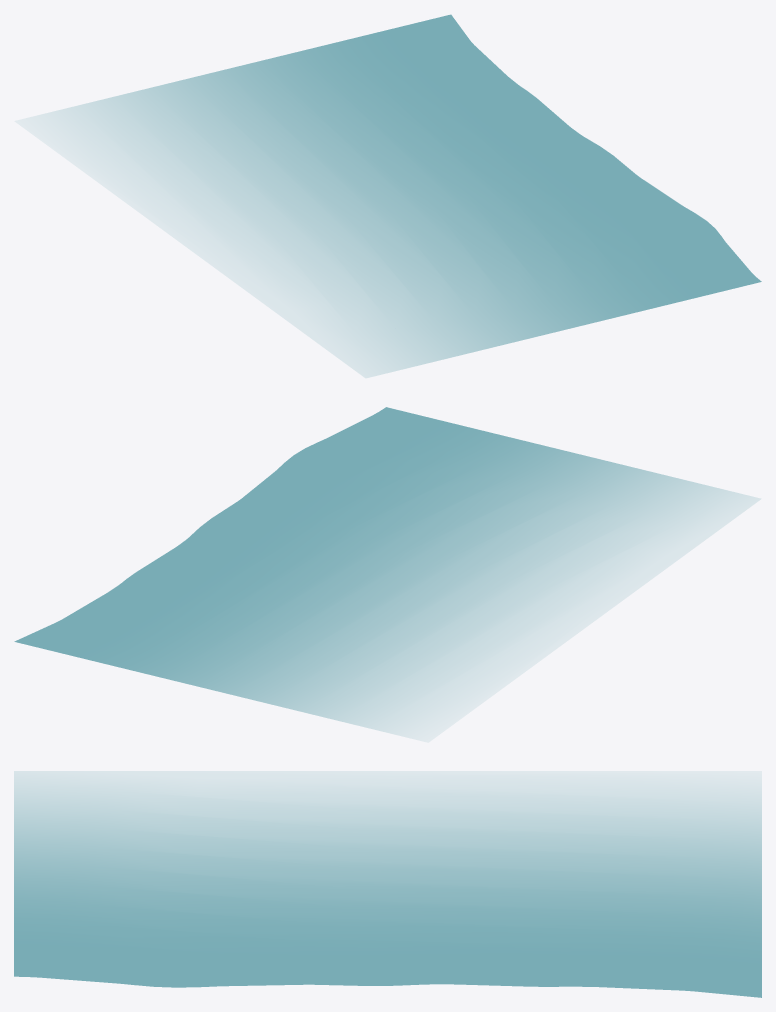
3 views of the same model, one above another, from view 1: azimuth 30°, elevation 25°; view 2: azimuth 150°, elevation 25°; view 3: azimuth 270°, elevation 25° (orthographic). The views are drawn at different scales.
Parts seen in each view (by area): view 1: city; view 2: city; view 3: city.
Boxes of the visible parts, x1,y1,x2,y2 form: city: (17,14,761,377); city: (14,407,760,741); city: (14,771,761,997).
Bounding box in the file's own units: 359 × 0 × 500.
